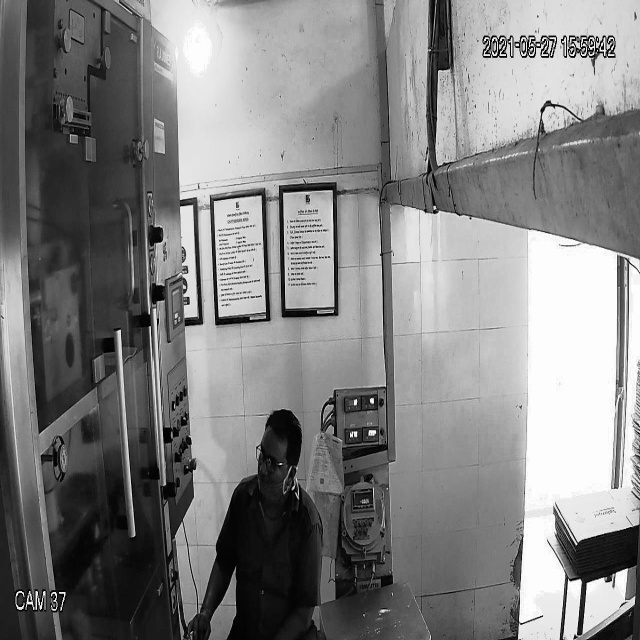Gafas: (253, 437, 300, 480)
